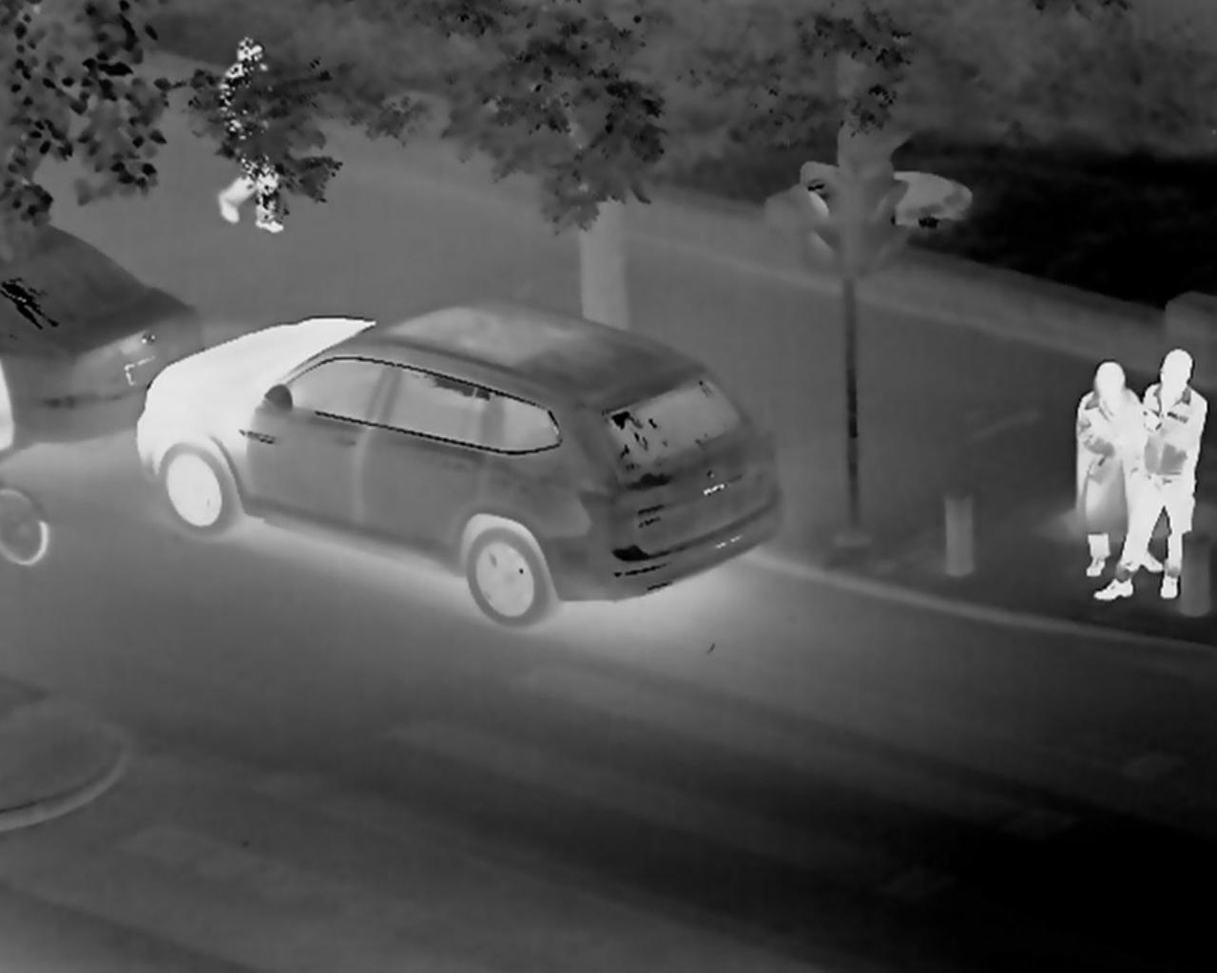person: (1124, 348, 1216, 607), (221, 35, 315, 236), (1062, 343, 1124, 563)
